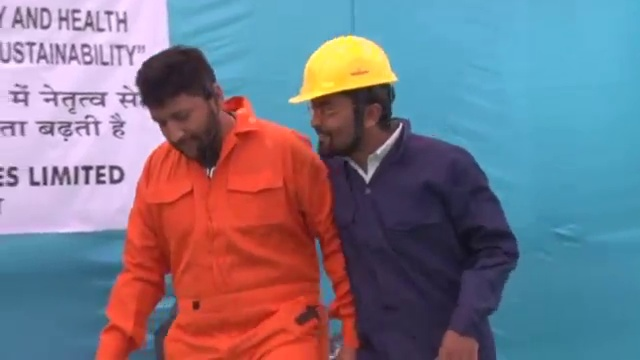helmet: (286, 34, 398, 107)
helmet_off: (135, 44, 226, 164)
helmet_on: (284, 34, 409, 158)
person: (97, 44, 360, 360), (286, 35, 522, 360)
